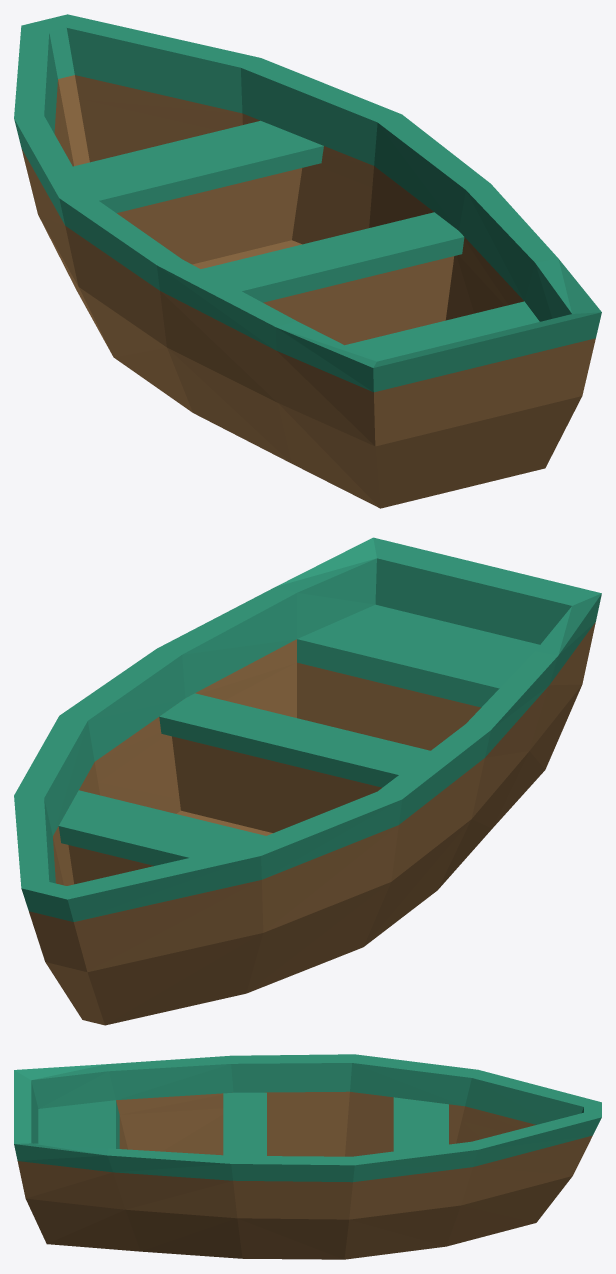
Rendered from Boat.fbx.
3 views of the same model, one above another, from view 1: azimuth 30°, elevation 25°; view 2: azimuth 150°, elevation 25°; view 3: azimuth 270°, elevation 25° (orthographic). The views are drawn at different scales.
Visible parts, largest first — view 1: Boat; view 2: Boat; view 3: Boat.
Part boxes in pixels (x1=…): Boat: x1=14, y1=14, x2=601, y2=508; Boat: x1=14, y1=537, x2=601, y2=1025; Boat: x1=14, y1=1054, x2=601, y2=1259.
Size of the model in its own units: 237 by 112 by 531.
